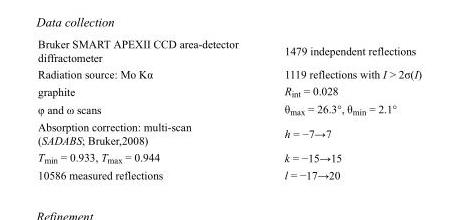table: (37, 37, 420, 180)
table column: (37, 37, 260, 180), (260, 37, 420, 180)
table row: (37, 118, 420, 148), (37, 37, 420, 65), (37, 82, 420, 100), (37, 100, 420, 118), (37, 148, 420, 166), (37, 65, 420, 82), (37, 166, 420, 180)
